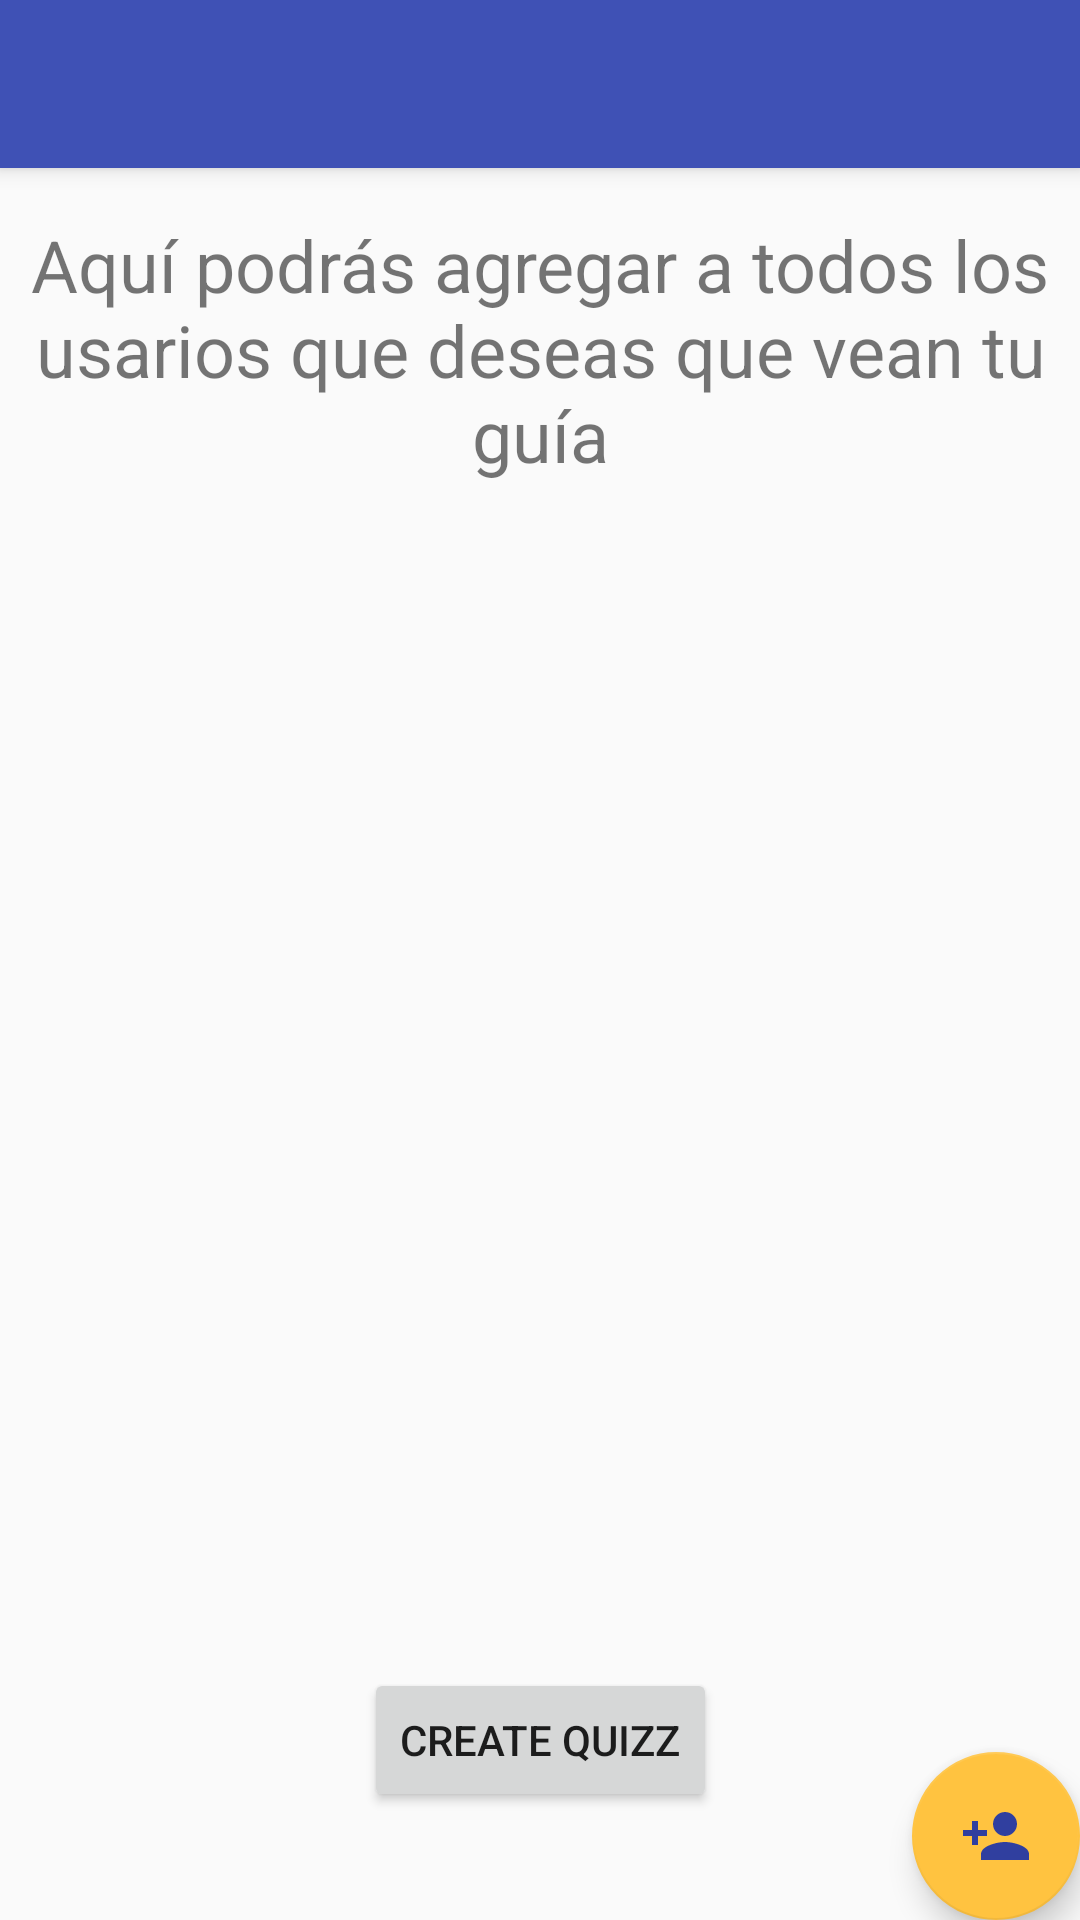

Where icons sit on this 1080 x 1920 app screen, as region(x1, y1, x2, y2):
person add: region(912, 1752, 1080, 1920)
